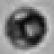correct: (1, 6, 52, 49)
